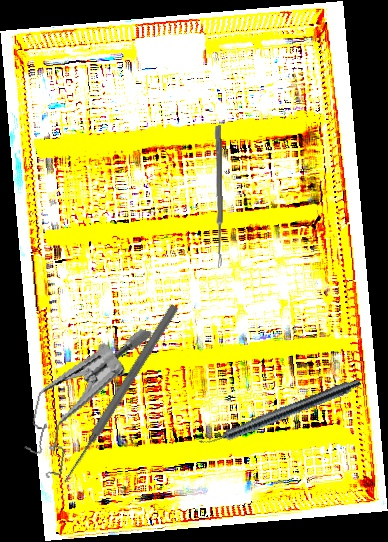Handpiece: (197, 373, 363, 453)
Pusher: (58, 302, 181, 487)
Speculum: (15, 308, 155, 495)
Surgical Spoon: (214, 125, 224, 268)
